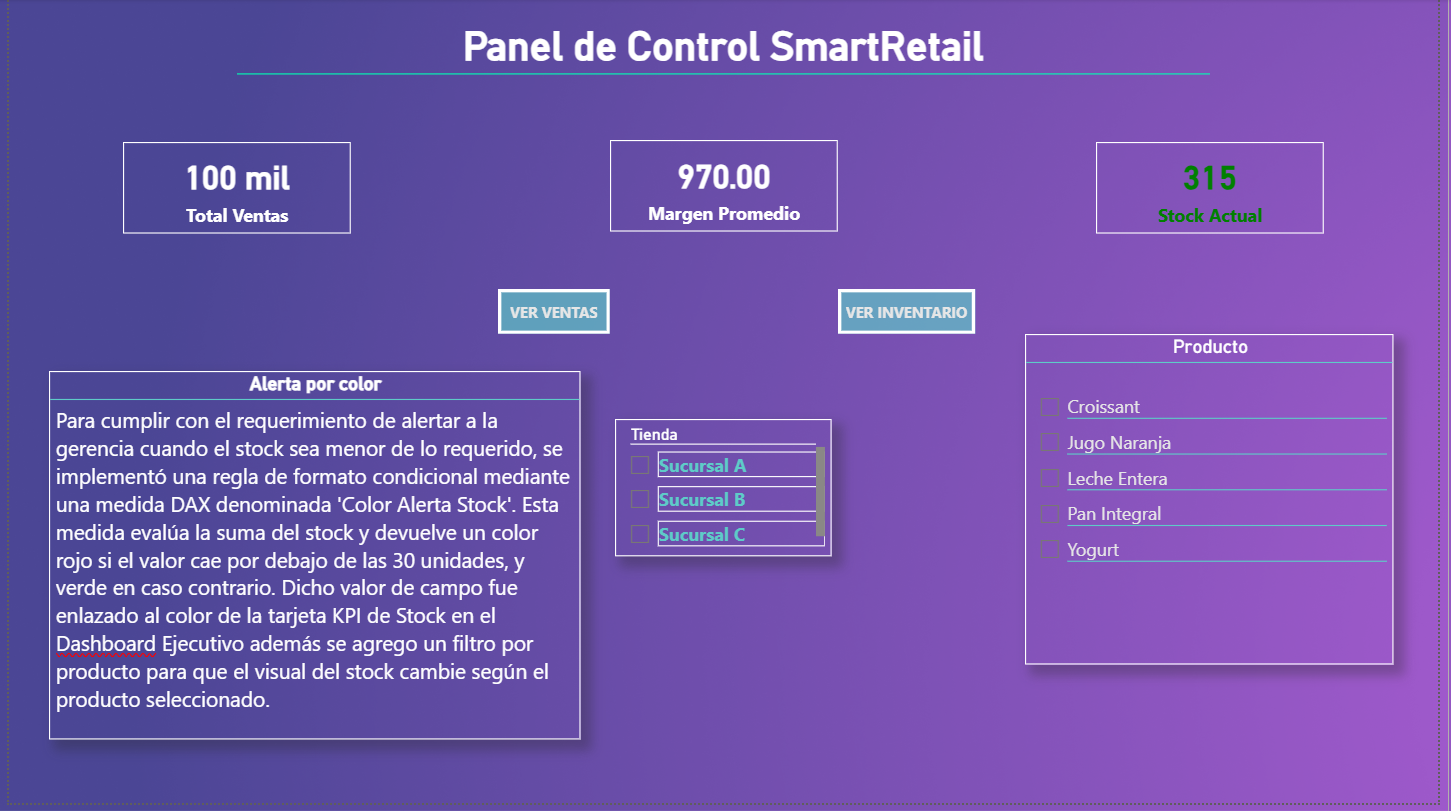

The dashboard page shown, as its layout file describes it:
{"tool":"powerbi","page":{"name":"Vista Ejecutiva","canvas":[1280,720],"ordinal":0},"visuals":[{"type":"card","fields":{"Values":["Ventas.Total Ventas"]},"box":[102.2,127.7,204.3,81.5],"z":0},{"type":"card","fields":{"Values":["Sum(Stock.Stock_Actual)"]},"box":[973.5,127.7,204.3,81.5],"z":3},{"type":"card","fields":{"Values":["Ventas.Margen Promedio"]},"box":[538.2,126.3,204.2,82.4],"z":4},{"type":"textbox","title":"Panel de Control SmartRetail","box":[204.2,20.6,871.3,78.8],"z":5},{"type":"actionButton","box":[438.1,259.3,100.2,40.3],"z":6},{"type":"actionButton","box":[742.7,259.3,122.8,40.3],"z":7},{"type":"slicer","fields":{"Values":["Ventas.Tienda"]},"box":[542.7,376.1,194.3,122.7],"z":8},{"type":"textbox","title":"Alerta por color","box":[35.8,333.1,475.5,330.4],"z":9},{"type":"slicer","title":"Producto","fields":{"Values":["Stock.Producto"]},"box":[909.9,300,330.4,296.4],"z":10}]}

Visuals, with their boxes in screenshot pixels (x1, y1, x2, y2), scaled from the page's 1280x720 canvas onto the 1451x811 screenshot:
card - Ventas.Total Ventas: 116,144,347,236
card - Sum(Stock.Stock_Actual): 1104,144,1335,236
card - Ventas.Margen Promedio: 610,142,842,235
"Panel de Control SmartRetail" textbox: 231,23,1219,112
actionButton: 497,292,610,337
actionButton: 842,292,981,337
slicer - Ventas.Tienda: 615,424,835,562
"Alerta por color" textbox: 41,375,580,747
"Producto" slicer: 1031,338,1406,672
